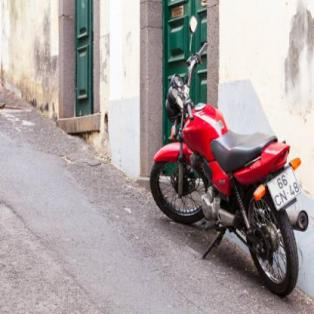Motocicleta: (143, 16, 310, 302)
